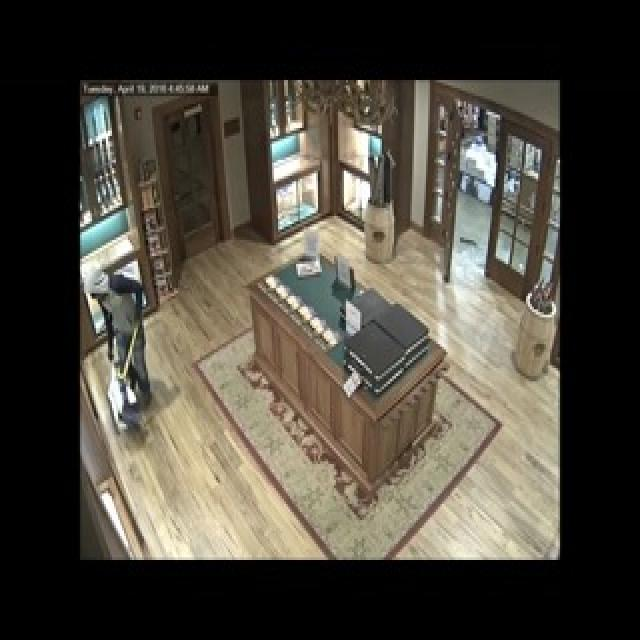thief: (82, 266, 160, 415)
